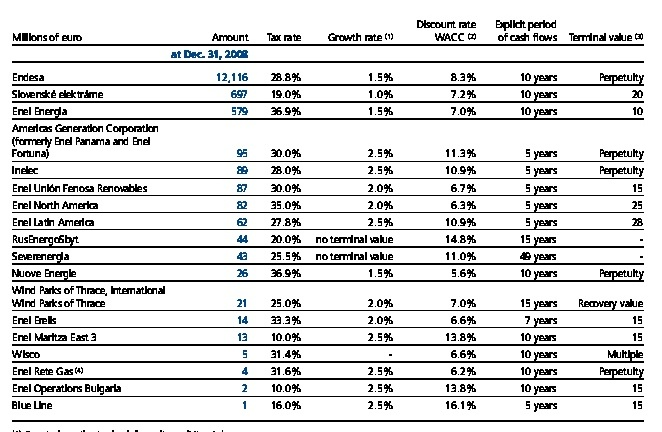table: (0, 0, 662, 432)
